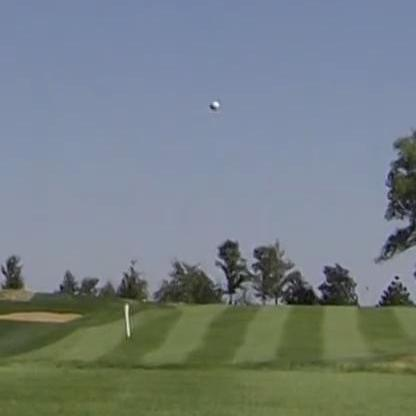golfball: (208, 99, 218, 107)
